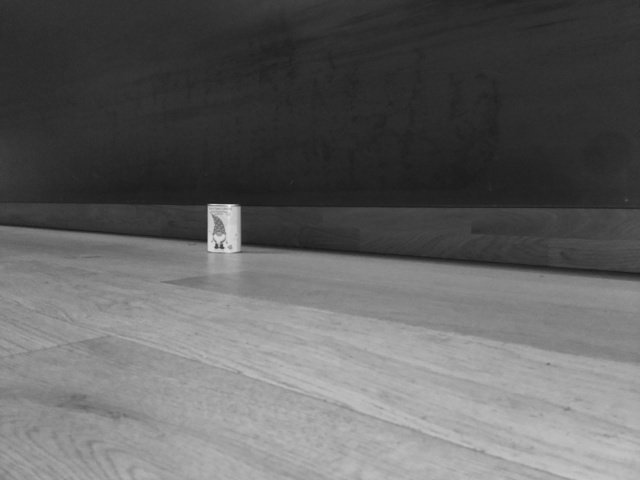gnome: (207, 212, 235, 250)
